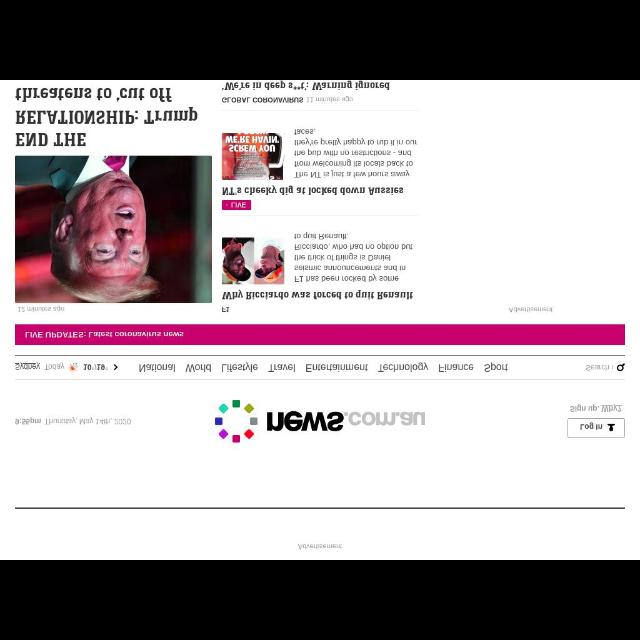icon: (617, 363, 625, 372), (607, 424, 615, 432), (114, 364, 118, 370)
iframe: (426, 82, 638, 318), (1, 510, 640, 560)
image: (15, 155, 212, 303), (214, 400, 426, 442), (222, 132, 284, 180), (222, 238, 284, 284), (68, 362, 80, 372)
text: (15, 88, 197, 124), (294, 128, 418, 178), (295, 232, 413, 282), (222, 289, 414, 299), (222, 185, 404, 195), (222, 81, 390, 91), (25, 330, 183, 338), (222, 96, 354, 104), (15, 417, 131, 425), (15, 134, 86, 146), (378, 362, 428, 372), (306, 364, 368, 372), (570, 404, 622, 412), (222, 362, 258, 372), (139, 364, 175, 372), (438, 364, 474, 372), (18, 306, 64, 312), (484, 362, 508, 372), (185, 363, 211, 372), (586, 364, 614, 372), (268, 364, 296, 372), (15, 363, 40, 371), (580, 423, 602, 431), (45, 362, 65, 370), (82, 364, 108, 370), (231, 202, 247, 208), (222, 306, 230, 312)
textbutton: (567, 418, 625, 438)
toolbar: (1, 357, 640, 507)
